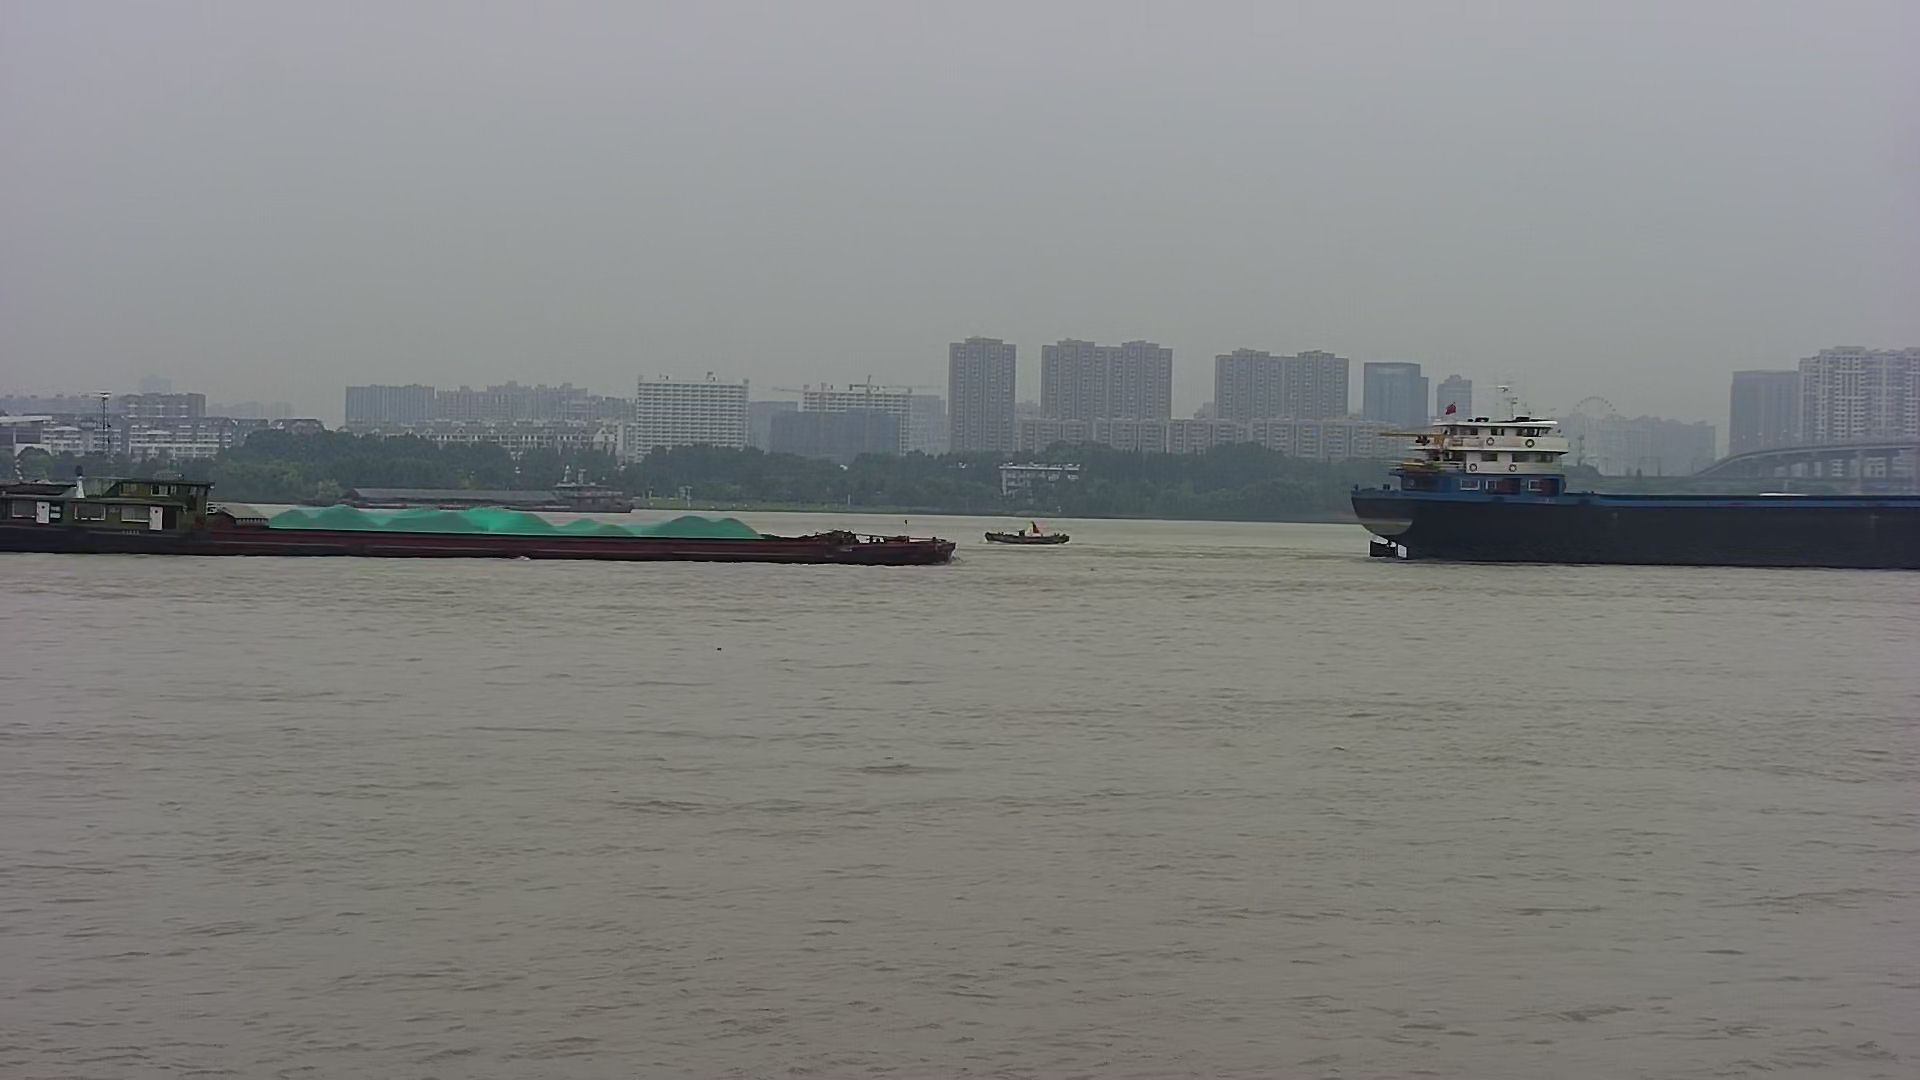boat: (973, 512, 1108, 553)
ship: (1329, 373, 1920, 585), (1, 454, 975, 574), (323, 462, 650, 520)
